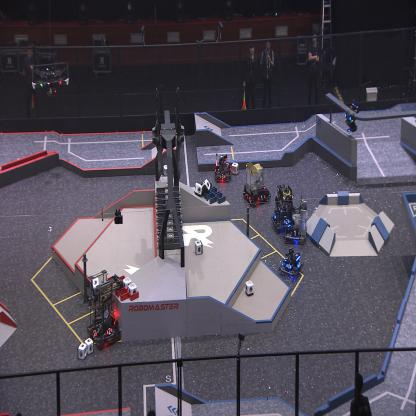car: (87, 271, 121, 349), (242, 160, 272, 205), (283, 201, 309, 245), (270, 185, 294, 231), (279, 247, 303, 281), (214, 150, 230, 184)
